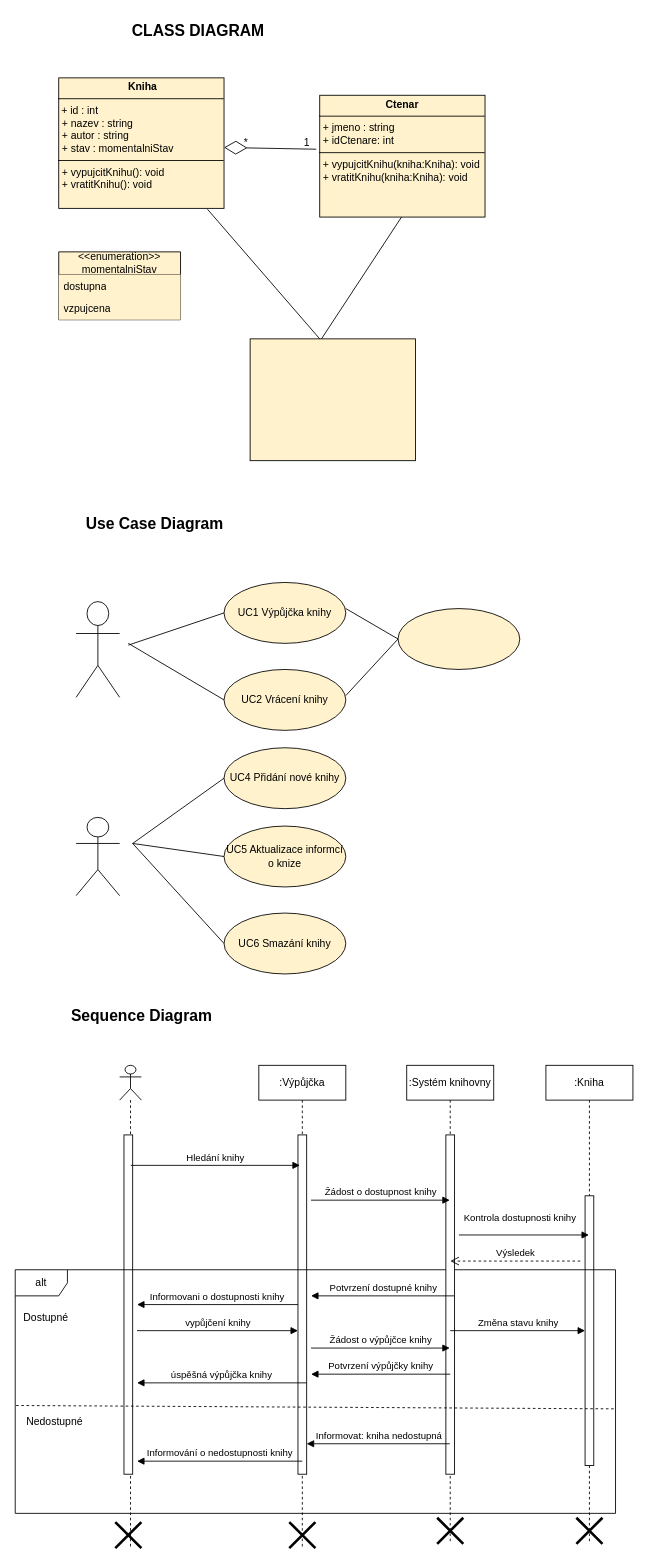
Some shapes in this 648 by 1564 pixel diagram are drawn without their labels. Each missing label, with the centre of its shape:
"Knihovník" belongs at [97,856].
"UC3 Prohlížení dostupných knih" belongs at [458,638].
"Vypujcka + idVypujcky + datumVypujcky : Date + datumVraceni : Date" belongs at [332,399].
"Čtenář" belongs at [97,649].
